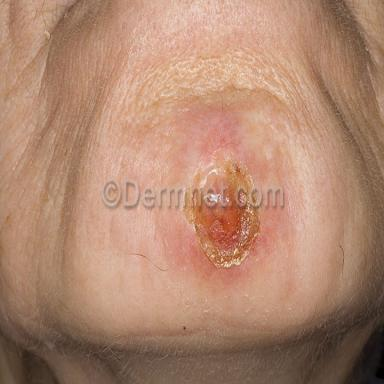Impetigo: (182, 207, 261, 273), (190, 155, 254, 186)
